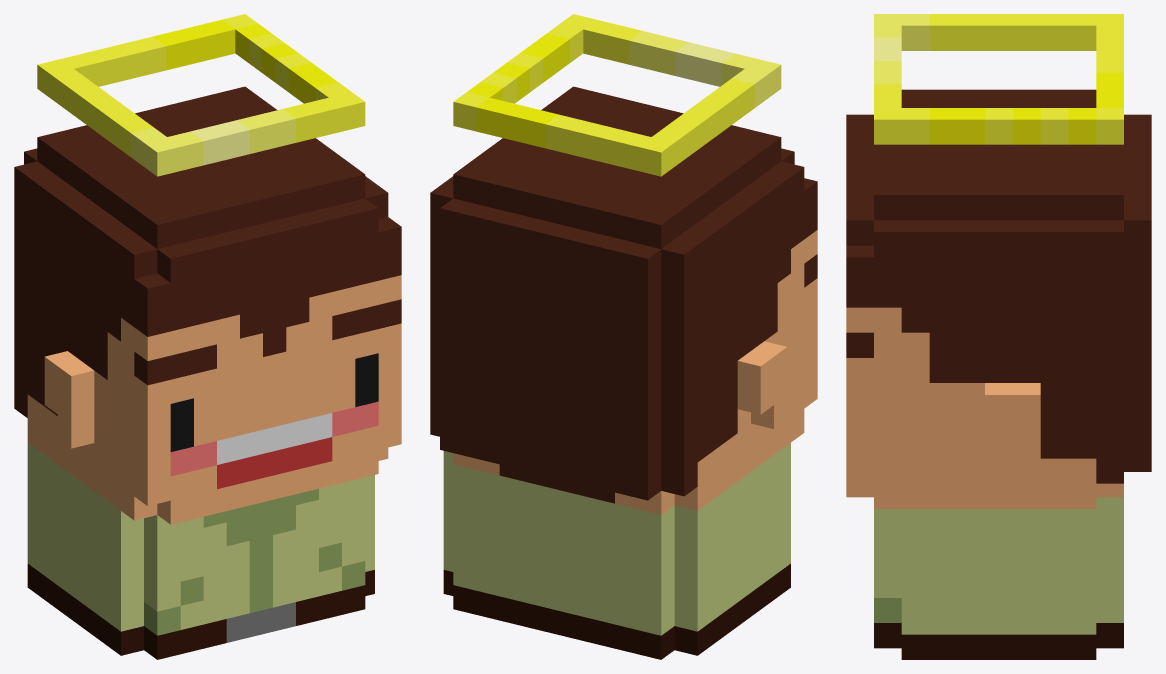
Rendered from godBody.obj.
The picture shows the model from 3 angles, left to right: view 1: azimuth 30°, elevation 25°; view 2: azimuth 150°, elevation 25°; view 3: azimuth 270°, elevation 25°; orthographic projection. The views are drawn at different scales.
Size of the model in its own units: 1.3 by 2.1 by 1.1.
1 material, 1 textured.
